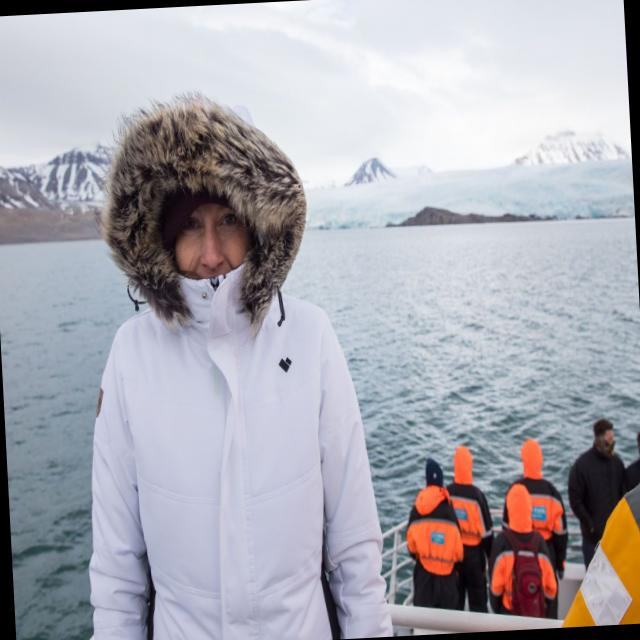Jacket: (68, 264, 391, 640), (562, 447, 633, 562), (485, 530, 566, 625), (402, 481, 464, 586), (494, 478, 572, 551), (436, 482, 490, 550)
